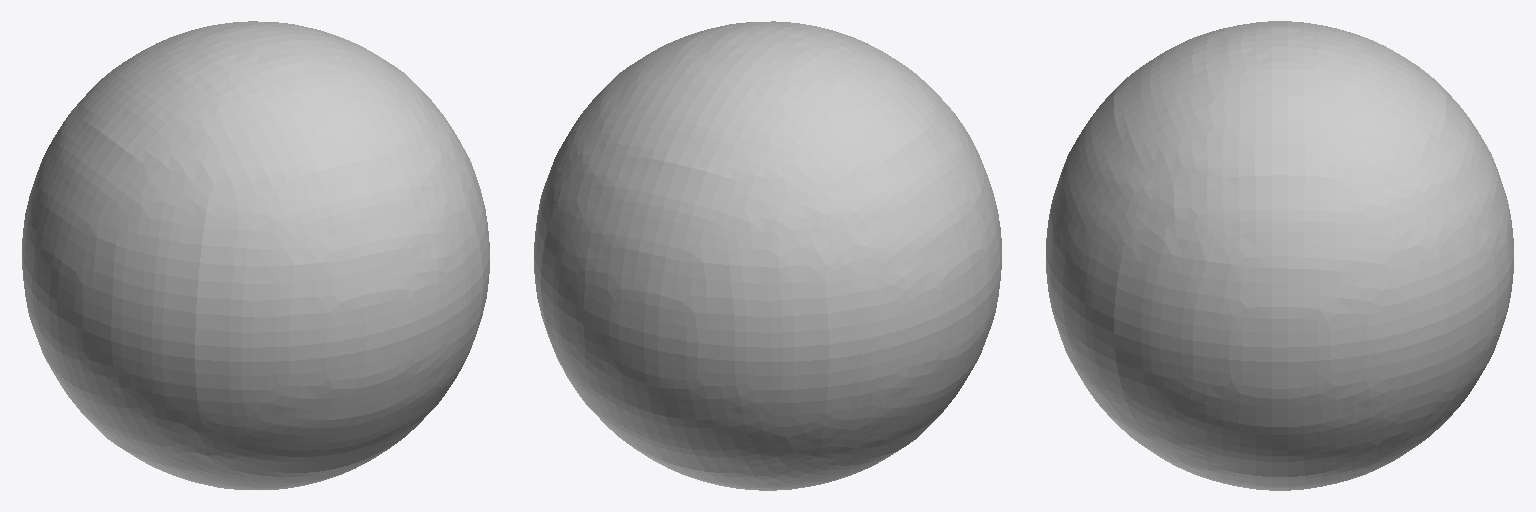
3 views of the same model, side by side, from view 1: azimuth 30°, elevation 25°; view 2: azimuth 150°, elevation 25°; view 3: azimuth 270°, elevation 25° (orthographic).
Visible parts, largest first — view 1: 球体; view 2: 球体; view 3: 球体.
Part boxes in pixels (bbox=[...]): 球体: bbox=[22, 21, 489, 489]; 球体: bbox=[534, 21, 1001, 490]; 球体: bbox=[1046, 21, 1513, 490].
Bounding box in the file's own units: 1.98 × 1.99 × 1.98.